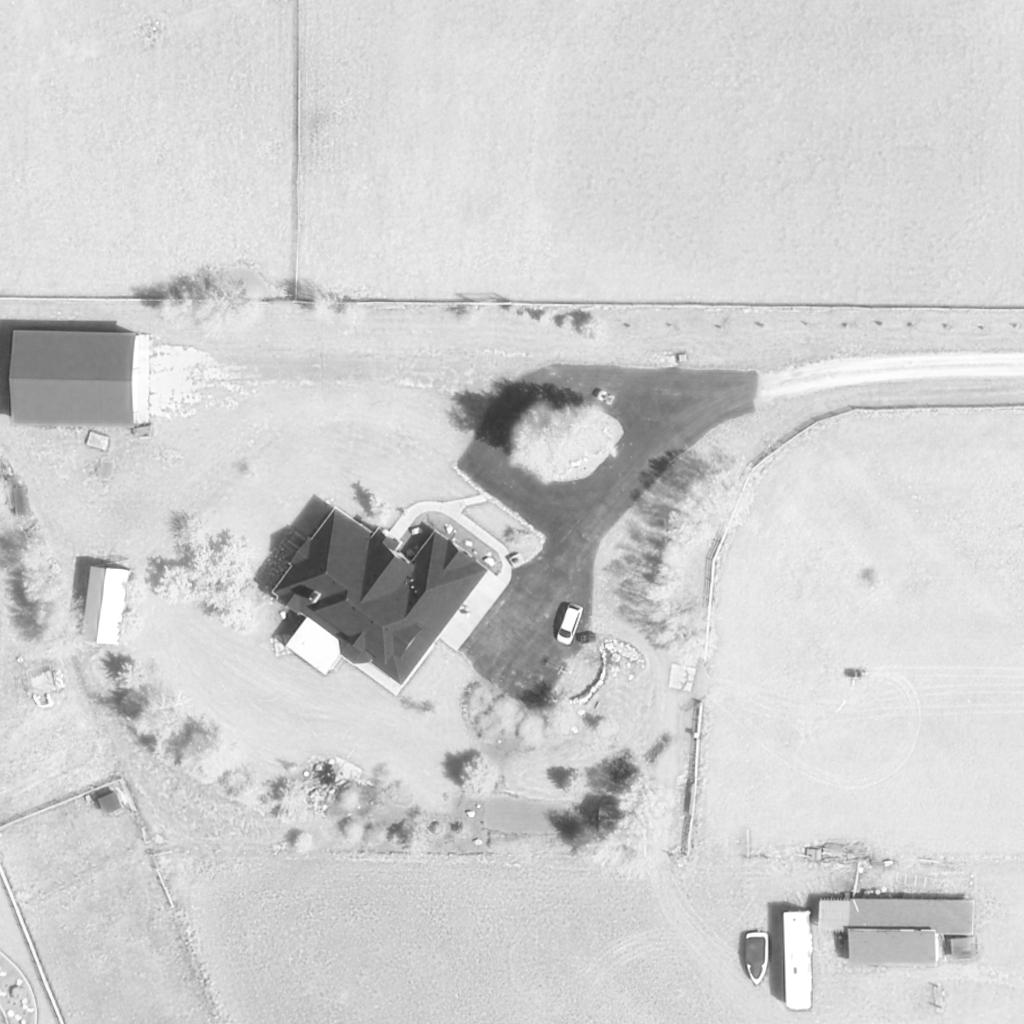vehicle: (782, 909, 814, 1011), (553, 604, 589, 646), (744, 933, 770, 985)
